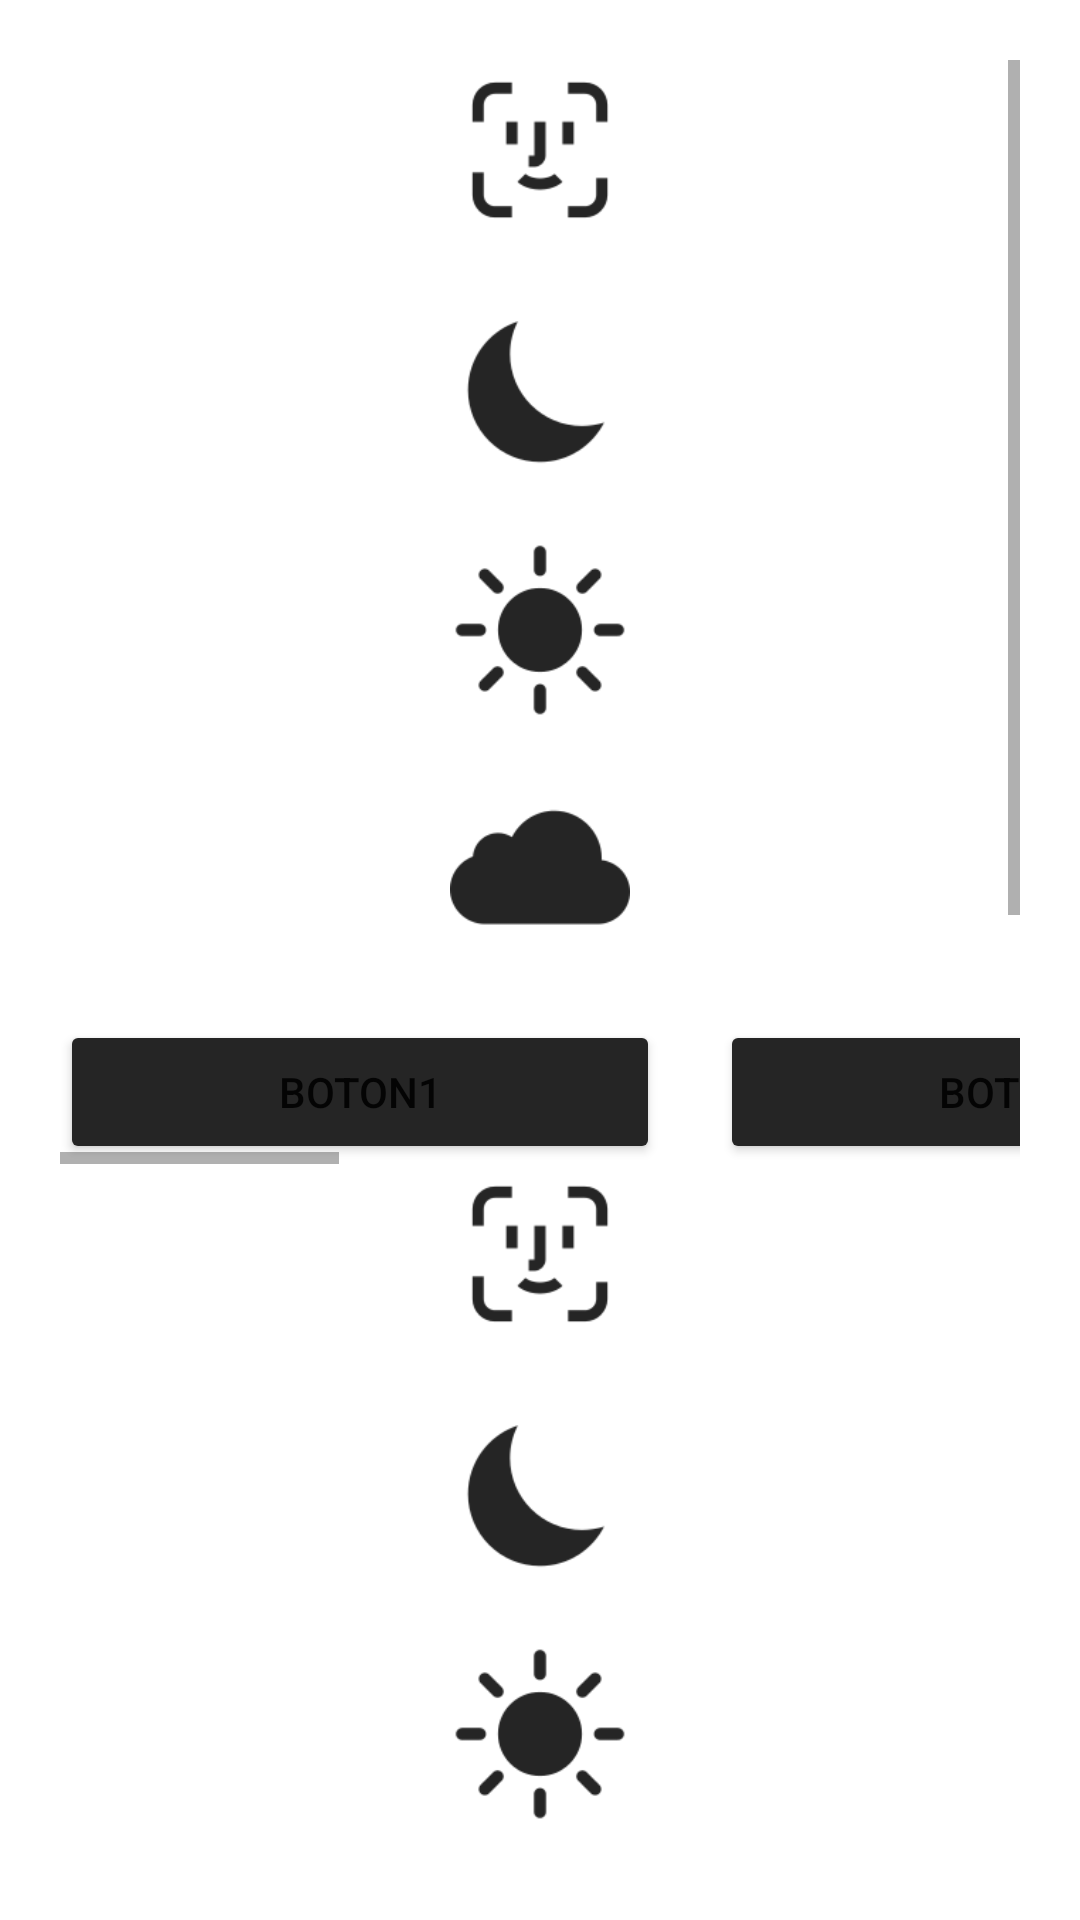

Point at icon controls on the screen. Image size 1080×1920, points as point (x, y).
face: point (540, 150), point (540, 1254)
moon: point (536, 392), point (536, 1496)
sun: point (540, 630), point (540, 1734)
